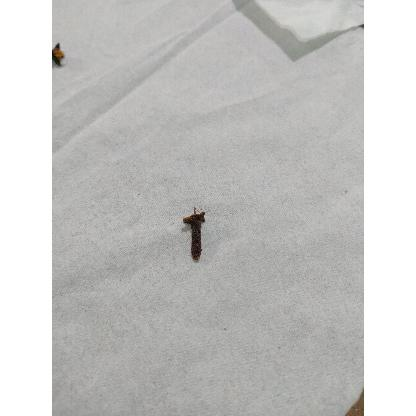buruk: (182, 207, 206, 263)
